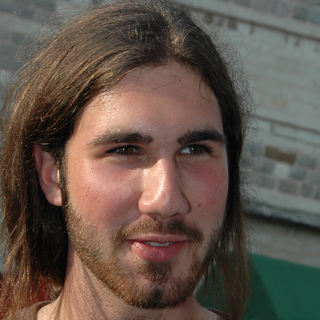eye: (100, 141, 143, 159), (174, 142, 213, 161)
